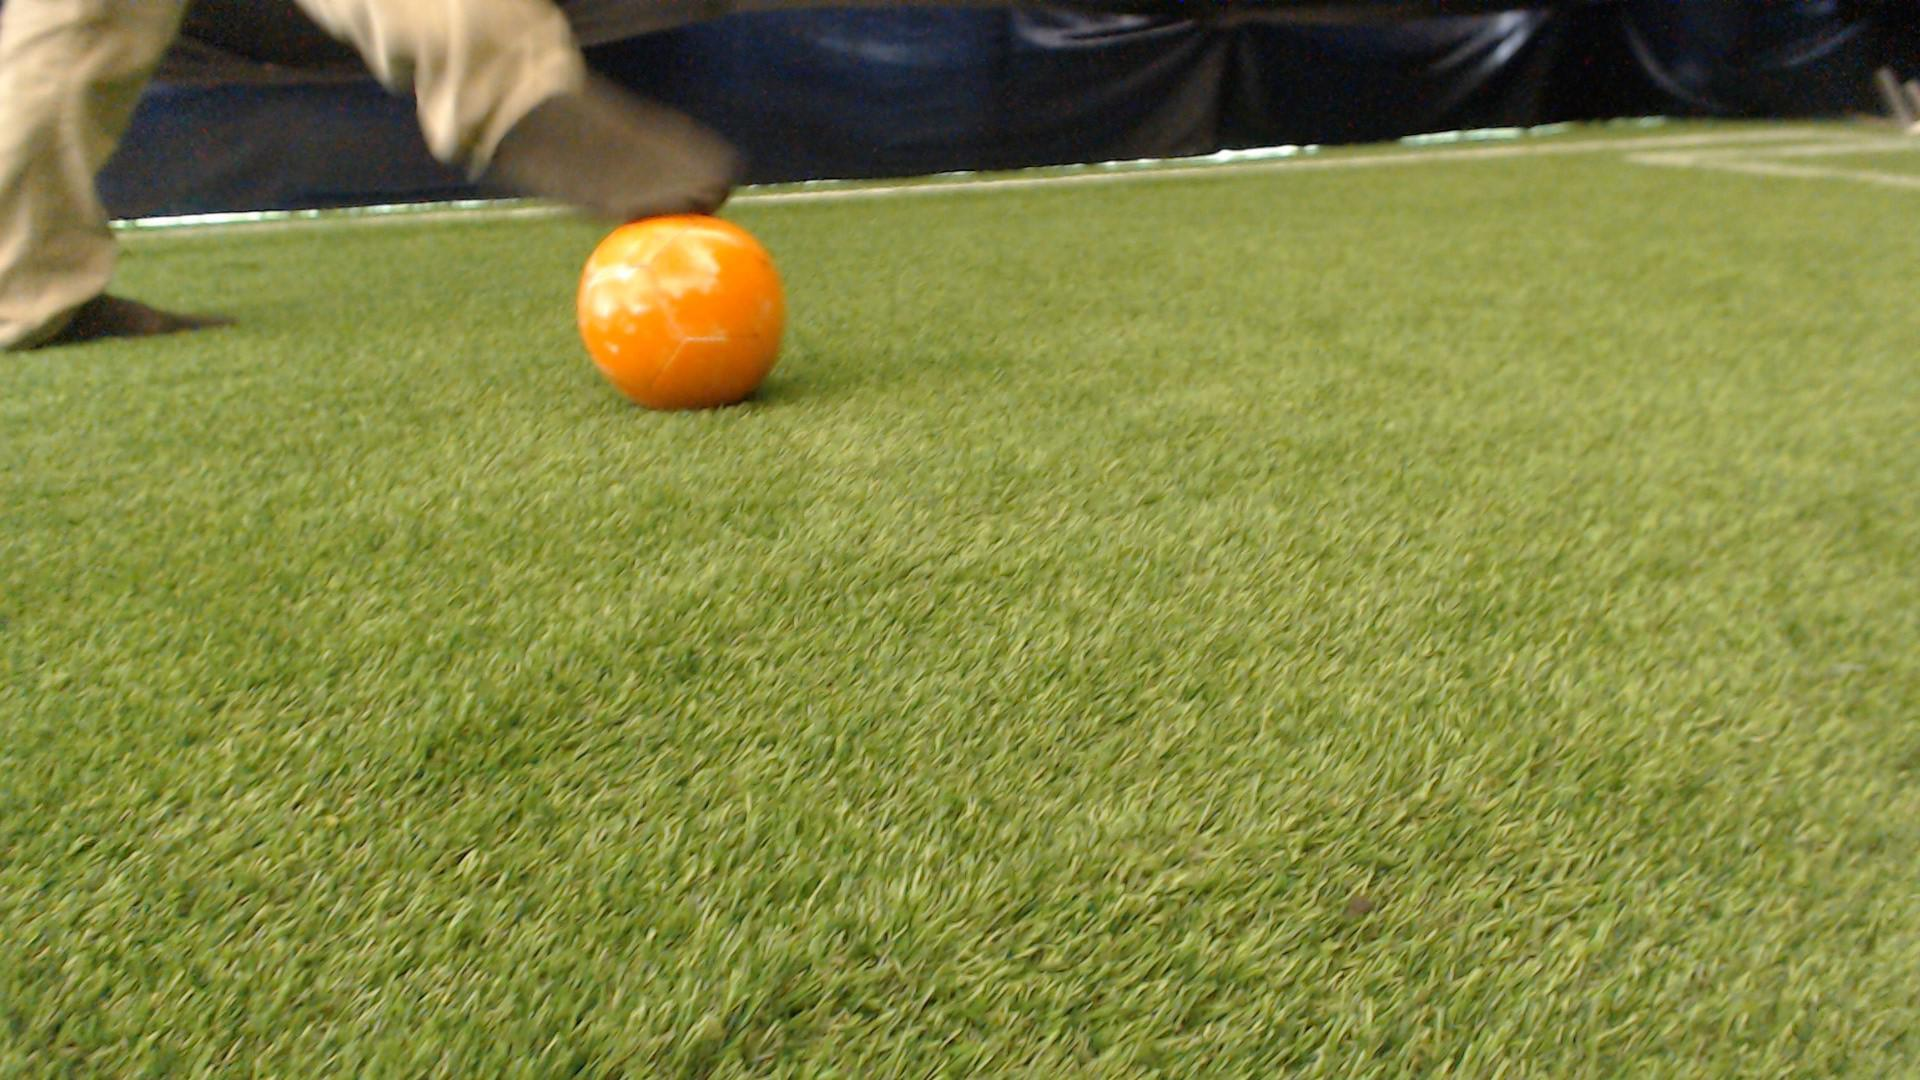bola: (549, 203, 827, 430)
